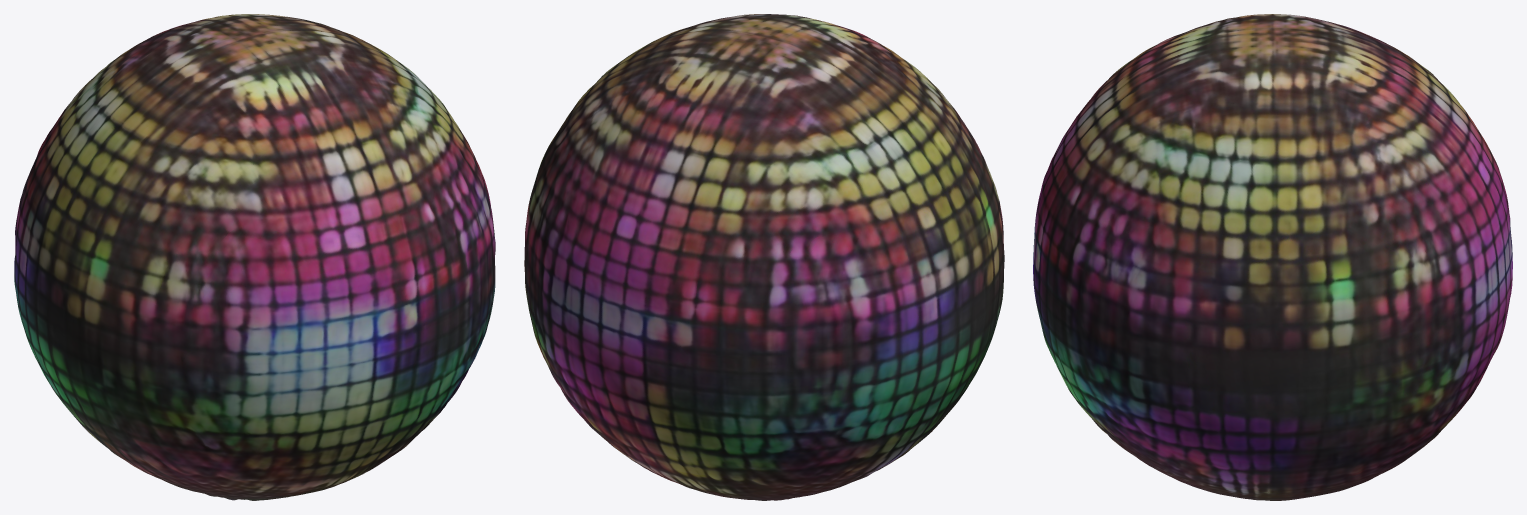
The model's file is discoBall.gltf.
The picture shows the model from 3 angles, left to right: view 1: azimuth 30°, elevation 25°; view 2: azimuth 150°, elevation 25°; view 3: azimuth 270°, elevation 25°; orthographic projection.
Visible parts, largest first — view 1: world_0; view 2: world_0; view 3: world_0.
Boxes of the visible parts, box(x1,y1,x2,y2) form: world_0: box(14, 14, 495, 500); world_0: box(524, 14, 1004, 500); world_0: box(1033, 14, 1512, 500).
Bounding box in the file's own units: 0.5844 × 0.5978 × 0.5849.
Materials: 1 (1 with a texture image).
